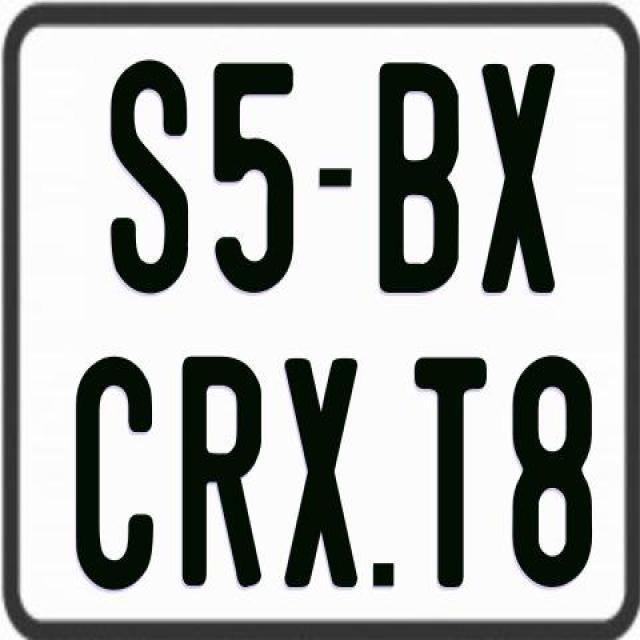5: (214, 58, 298, 292)
8: (510, 353, 590, 592)
B: (377, 59, 459, 290)
C: (72, 354, 150, 596)
S: (110, 59, 194, 294)
T: (414, 356, 489, 594)
X: (478, 59, 558, 288), (282, 358, 358, 589)
